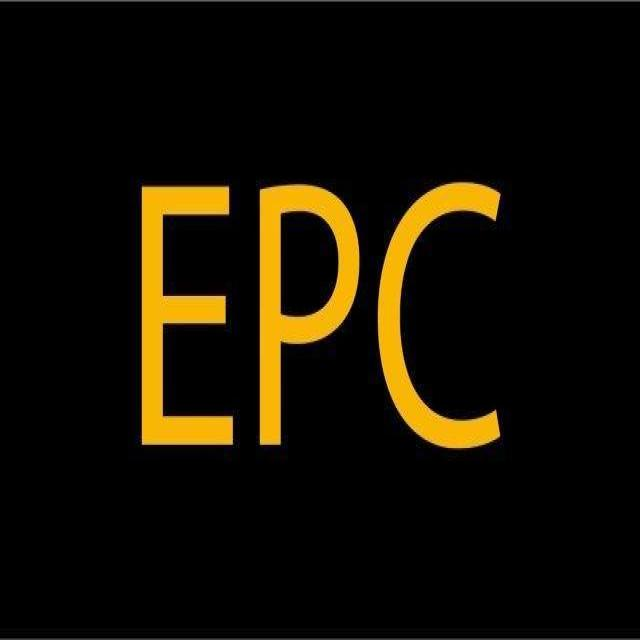kontrolka: (106, 146, 546, 512)
